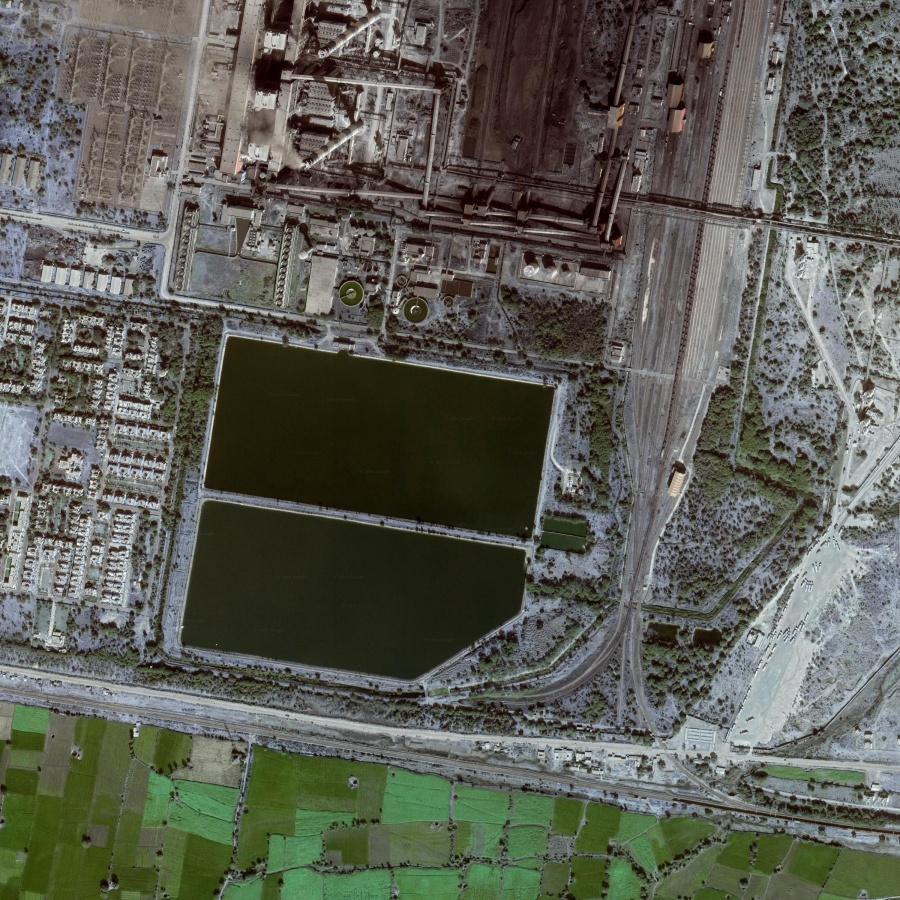PowerPlant: (152, 304, 572, 710)
